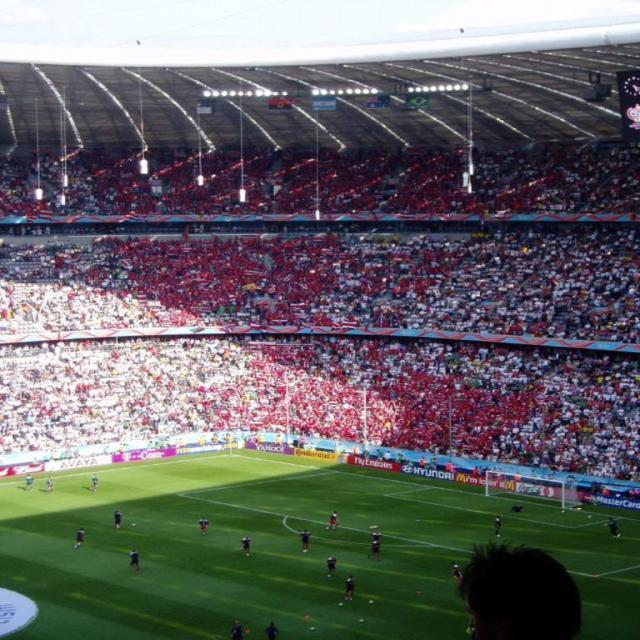ball: (369, 602, 375, 605)
